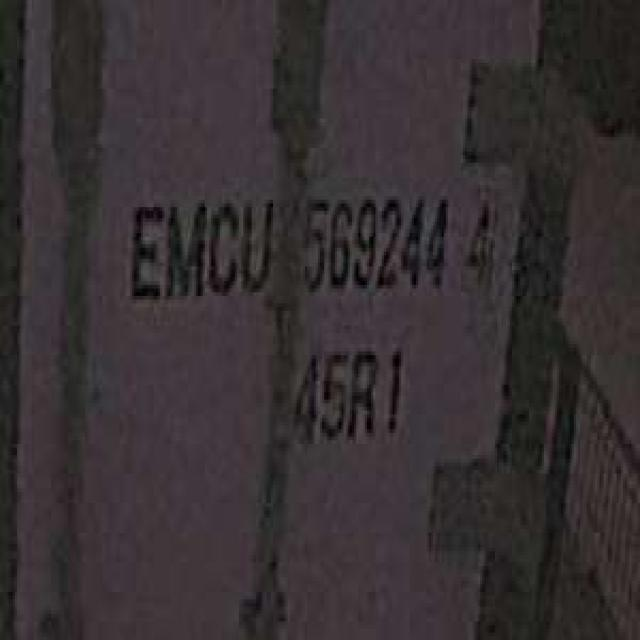dv: (459, 178, 495, 296)
owner: (120, 178, 275, 307)
serial: (299, 178, 450, 304)
size: (284, 333, 412, 448)
